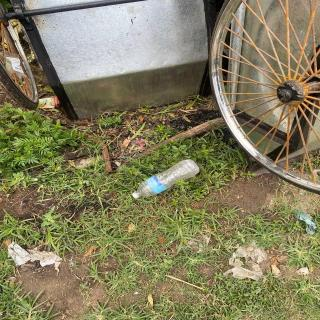Plastic-bottle: (128, 158, 205, 202)
